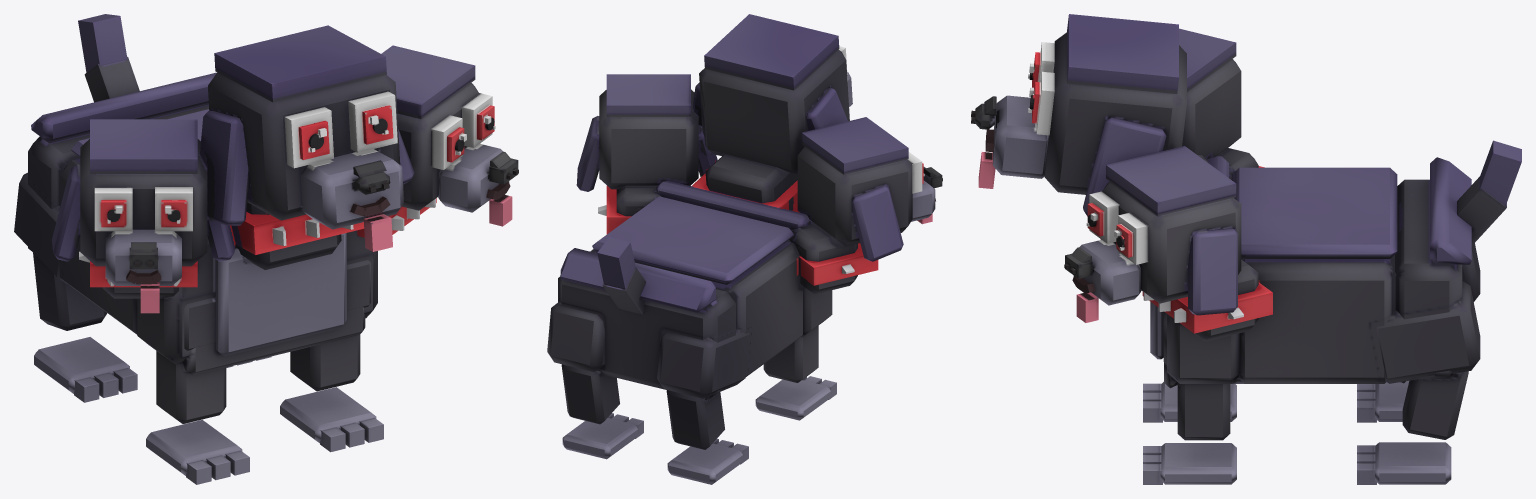
The model's file is CerbereChiot_Rig.fbx.
3 views of the same model, side by side, from view 1: azimuth 30°, elevation 25°; view 2: azimuth 150°, elevation 25°; view 3: azimuth 270°, elevation 25° (orthographic). The views are drawn at different scales.
Visible parts, largest first — view 1: Head0, Body, Head2, Head1, LegBR, LegFR, LegFL, Tail; view 2: Body, Head0, Head2, Head1, LegBR, LegBL, LegFR, Tail; view 3: Body, Head0, Head1, LegBL, LegFL, Head2, Tail, LegBR, LegFR.
Part boxes in pixels (left/top/right/bottom): Head0: left=200, top=25, right=414, bottom=269; Body: left=28, top=72, right=377, bottom=375; Head2: left=51, top=119, right=235, bottom=313; Head1: left=357, top=45, right=518, bottom=237; LegBR: left=14, top=172, right=137, bottom=402; LegFR: left=146, top=297, right=249, bottom=484; LegFL: left=280, top=260, right=383, bottom=452; Tail: left=78, top=14, right=139, bottom=102; Body: left=558, top=181, right=832, bottom=399; Head0: left=690, top=14, right=852, bottom=212; Head2: left=789, top=117, right=942, bottom=294; Head1: left=576, top=74, right=717, bottom=234; LegBR: left=657, top=327, right=749, bottom=484; LegBL: left=547, top=301, right=643, bottom=459; LegFR: left=755, top=325, right=836, bottom=420; Tail: left=597, top=237, right=646, bottom=315; Body: left=1150, top=156, right=1471, bottom=388; Head0: left=971, top=14, right=1209, bottom=239; Head1: left=1064, top=146, right=1272, bottom=341; LegBL: left=1357, top=281, right=1480, bottom=484; LegFL: left=1143, top=312, right=1236, bottom=484; Head2: left=1179, top=28, right=1264, bottom=177; Tail: left=1457, top=140, right=1521, bottom=245; LegBR: left=1357, top=243, right=1480, bottom=422; LegFR: left=1143, top=382, right=1236, bottom=422.
Size of the model in its own units: 6.19 by 6 by 7.47.
1 material, 1 textured.
